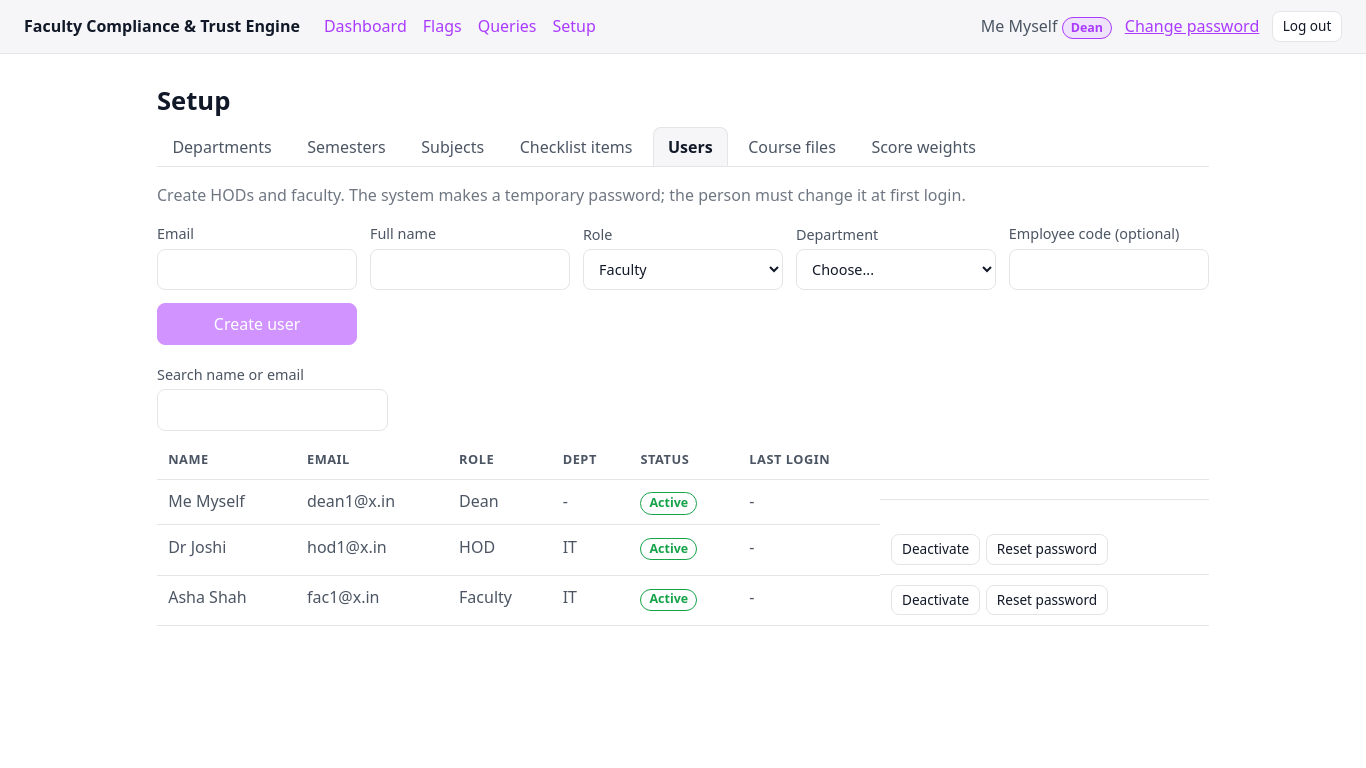
Test: users › closing the password box with Escape also removes it
Expected: the text "Asha Shah" is shown, 157,575 -> 296,626
Click the button "Reset password" in the row of "Asha Shah" at (1047,600), box 986,585 -> 1108,615
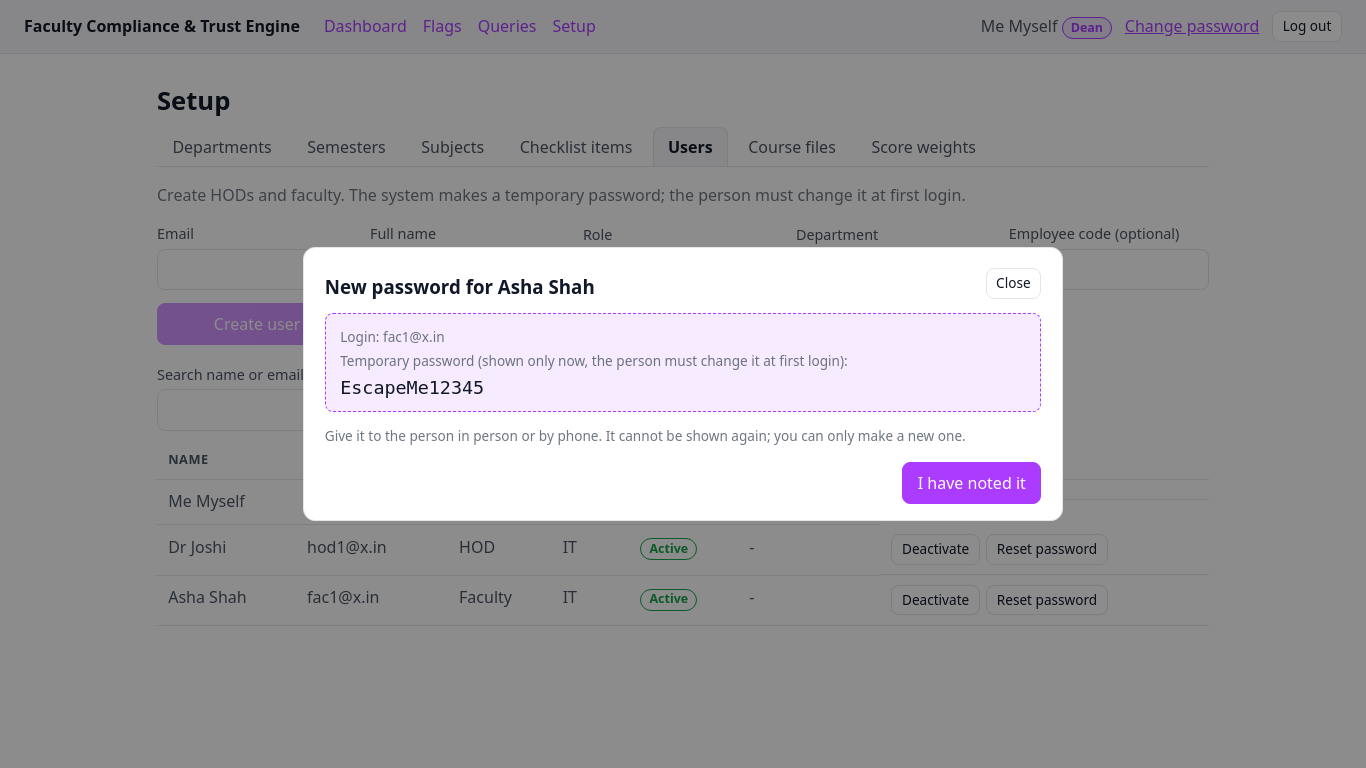
Expected: the text "EscapeMe12345" is shown, 340,377 -> 484,398
Press Escape
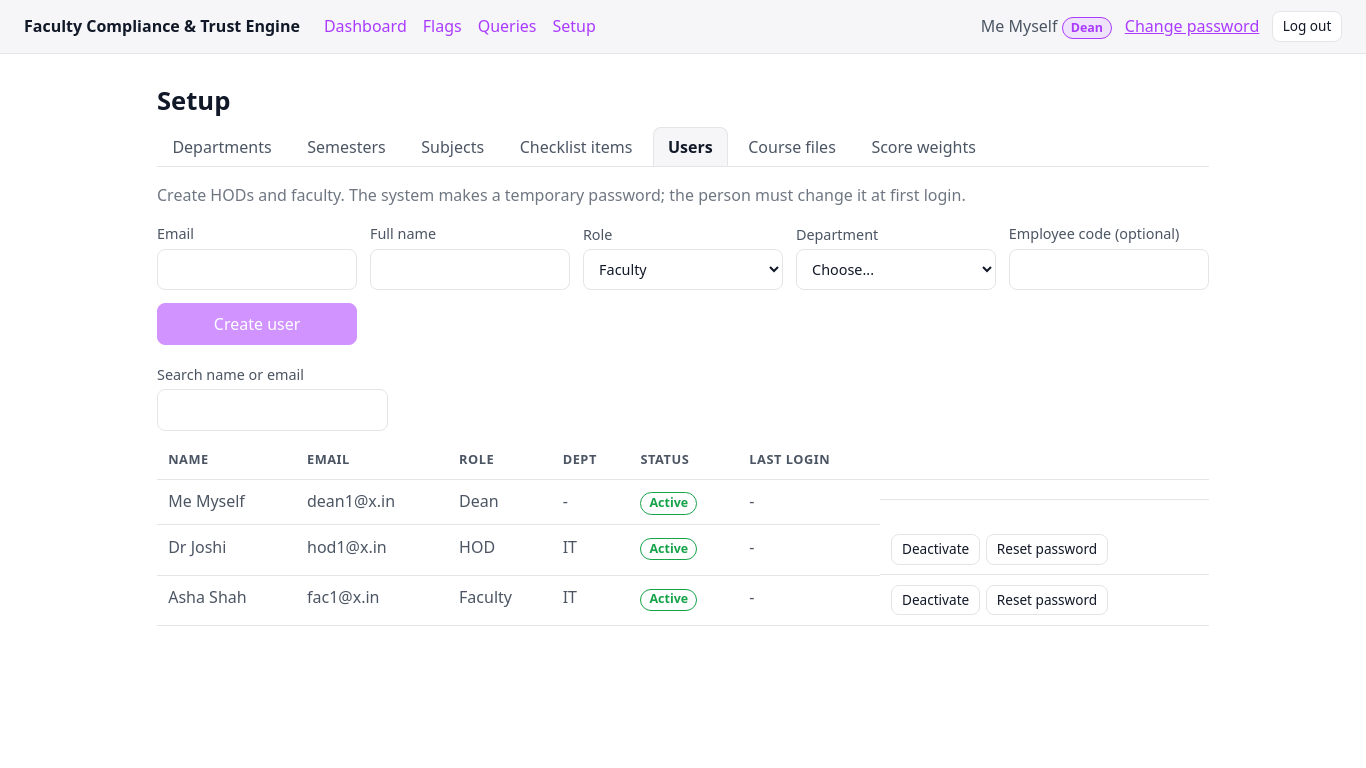
Expected: the text "EscapeMe12345" is gone
